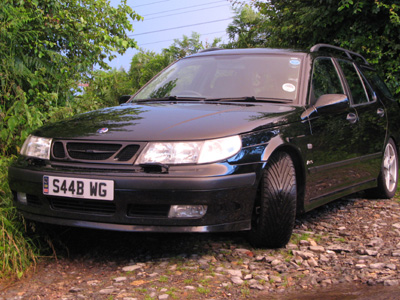licencePlate: (41, 175, 122, 200)
